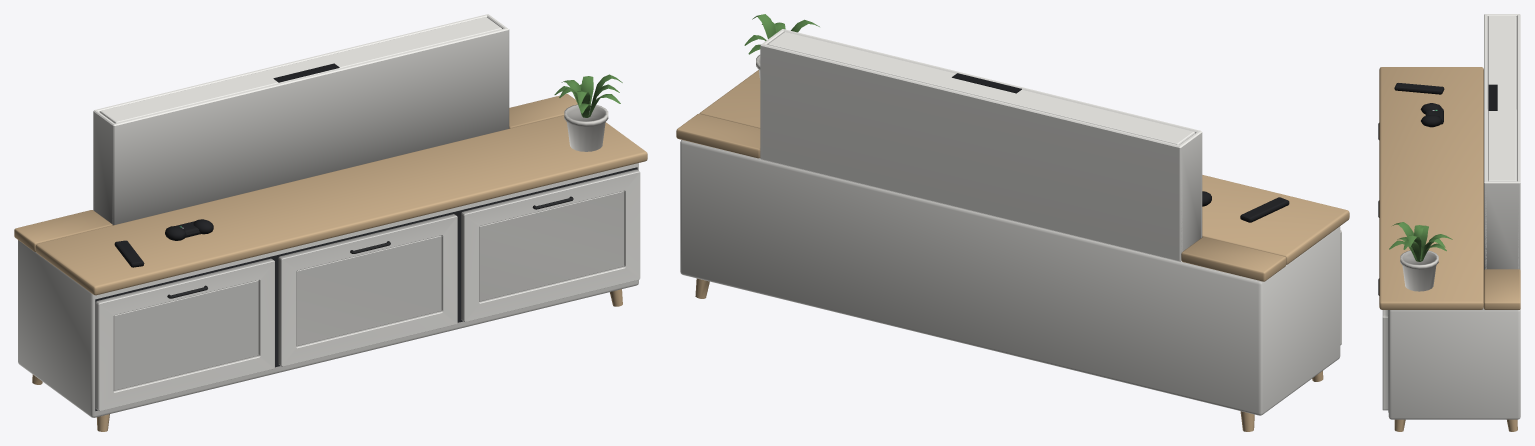
File: tvStandLow.glb
3 views of the same model, side by side, from view 1: azimuth 30°, elevation 25°; view 2: azimuth 150°, elevation 25°; view 3: azimuth 270°, elevation 25° (orthographic). The views are drawn at different scales.
Parts seen in each view (by area): view 1: tvStandLow, tv; view 2: tvStandLow, tv; view 3: tvStandLow, tv.
Part boxes in pixels (x1,y1,x2,y2): tvStandLow: (14, 14, 647, 431); tv: (100, 17, 501, 123); tvStandLow: (676, 14, 1349, 431); tv: (768, 32, 1194, 144); tvStandLow: (1378, 14, 1520, 431); tv: (1488, 16, 1516, 181).
Bounding box in the file's own units: 1.82 × 0.8036 × 0.464.
